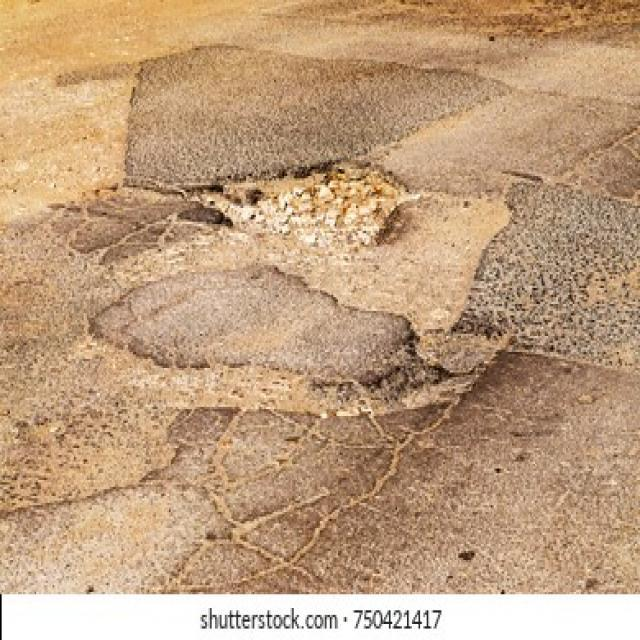Pothole: (190, 160, 402, 270), (396, 188, 518, 336)
